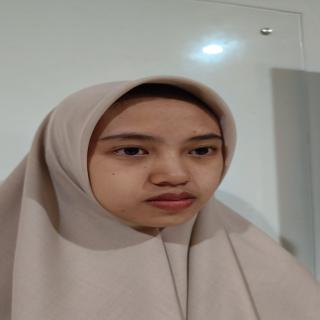Netral: (85, 87, 242, 239)
